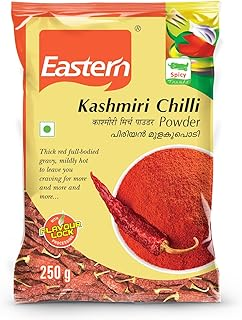Chilli Powder: (11, 1, 227, 306)
